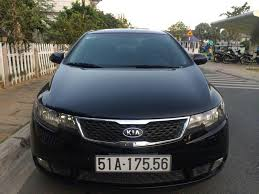Car number plates: (95, 154, 170, 171)
